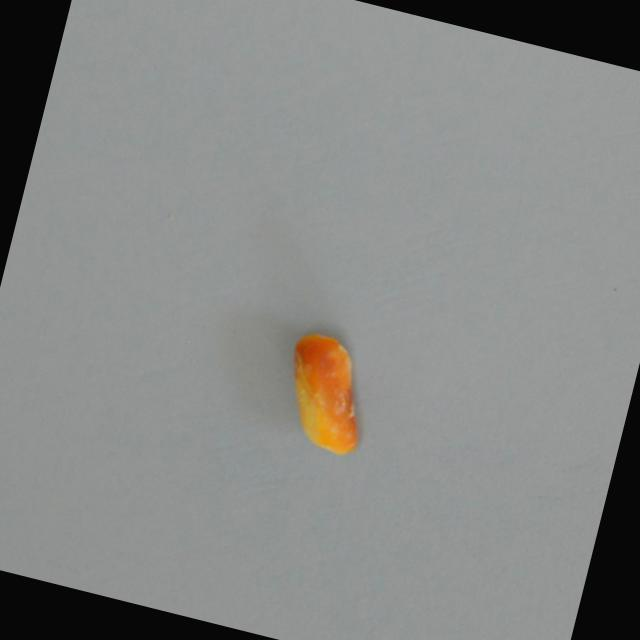dañado: (264, 320, 393, 463)
